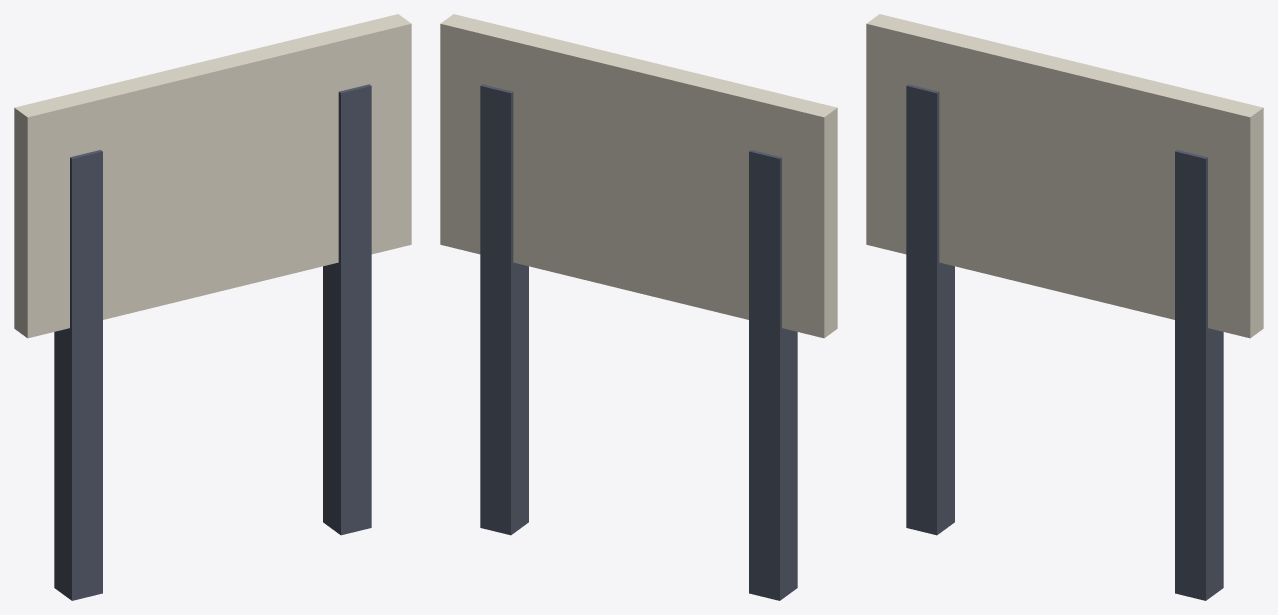
File: panneau.glb
3 renders of one model, left to right at view 1: azimuth 30°, elevation 25°; view 2: azimuth 150°, elevation 25°; view 3: azimuth 330°, elevation 25°, orthographic.
Size of the model in its own units: 2 by 2.45 by 0.16.
